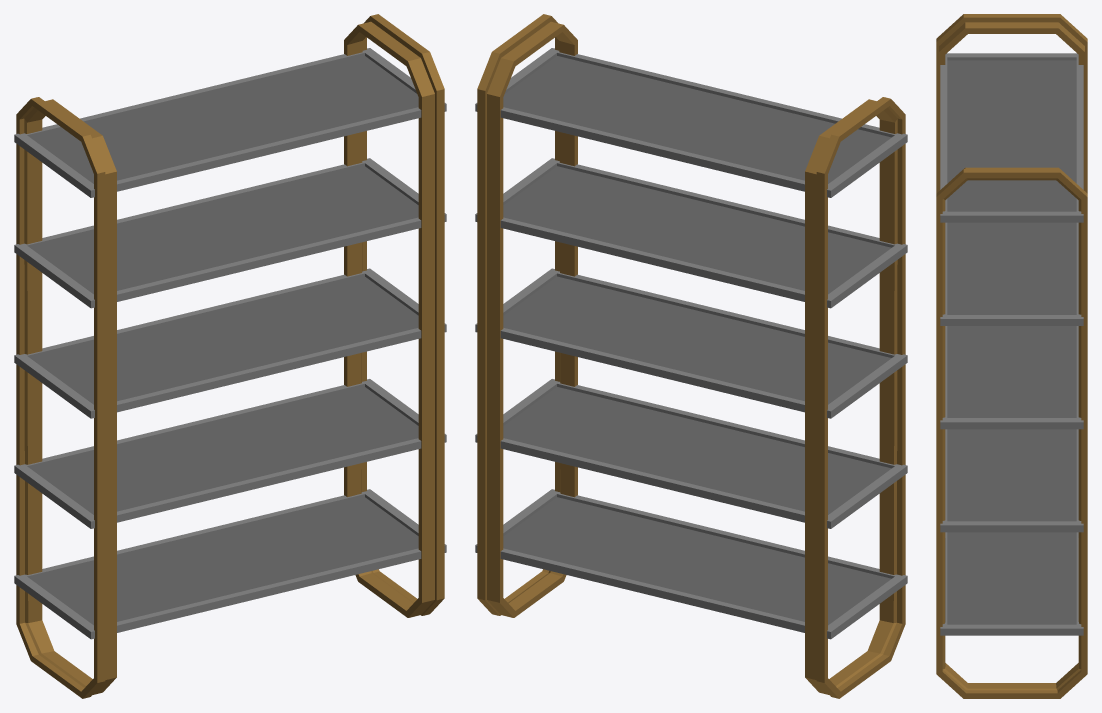
Rendered from shelf_tall.glb.
3 renders of one model, left to right at view 1: azimuth 30°, elevation 25°; view 2: azimuth 150°, elevation 25°; view 3: azimuth 270°, elevation 25°, orthographic. The views are drawn at different scales.
Parts seen in each view (by area): view 1: shelf_tall; view 2: shelf_tall; view 3: shelf_tall.
Boxes of the visible parts, x1,y1,x2,y2 form: shelf_tall: [14, 14, 446, 698]; shelf_tall: [475, 14, 907, 698]; shelf_tall: [936, 14, 1087, 698].
Bounding box in the file's own units: 1.85 × 2.8 × 0.7307.
